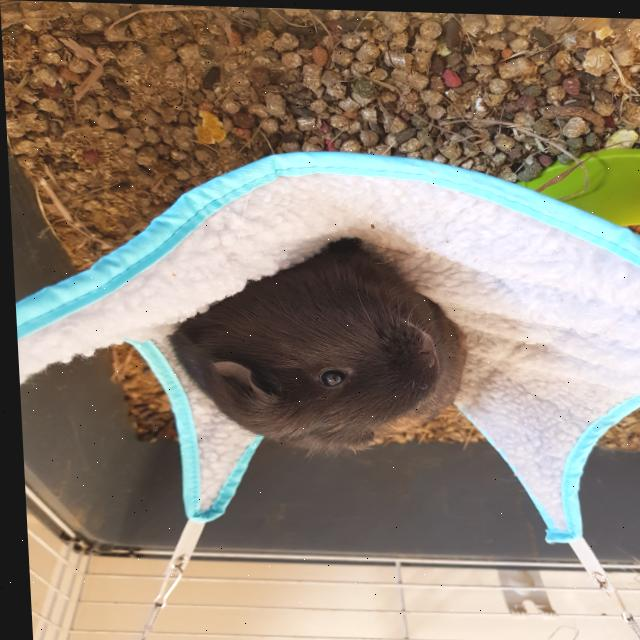guinea pig: (155, 227, 473, 457)
